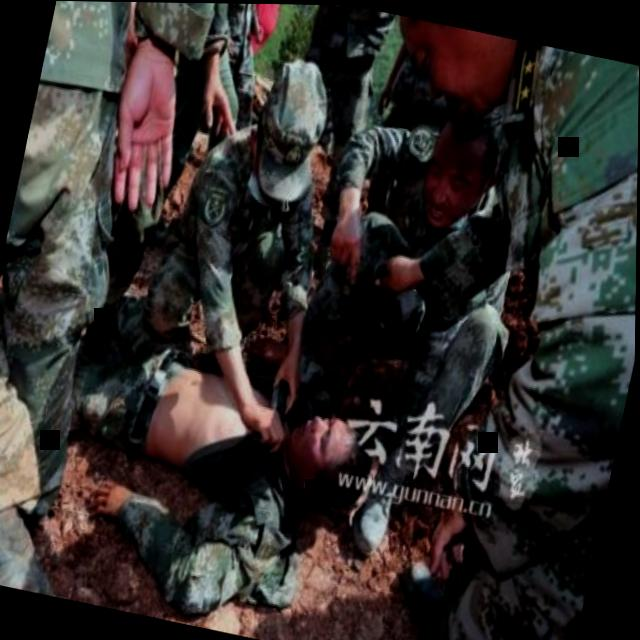Fall-Detected: (31, 254, 412, 640)
